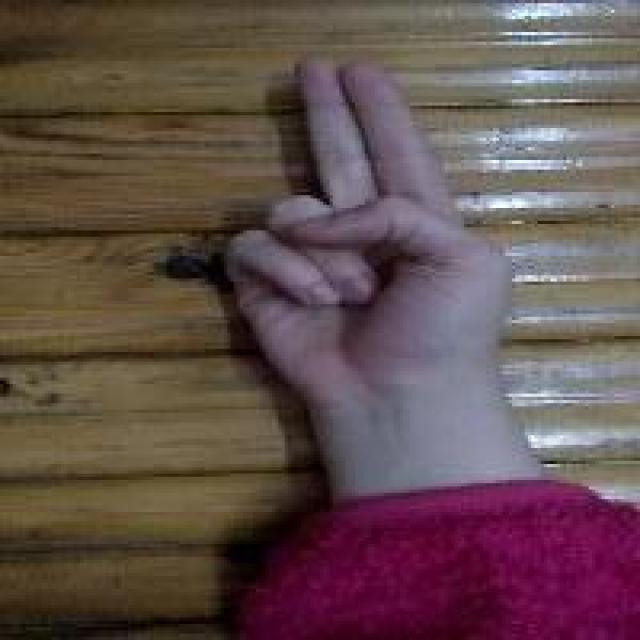U: (212, 43, 514, 424)
